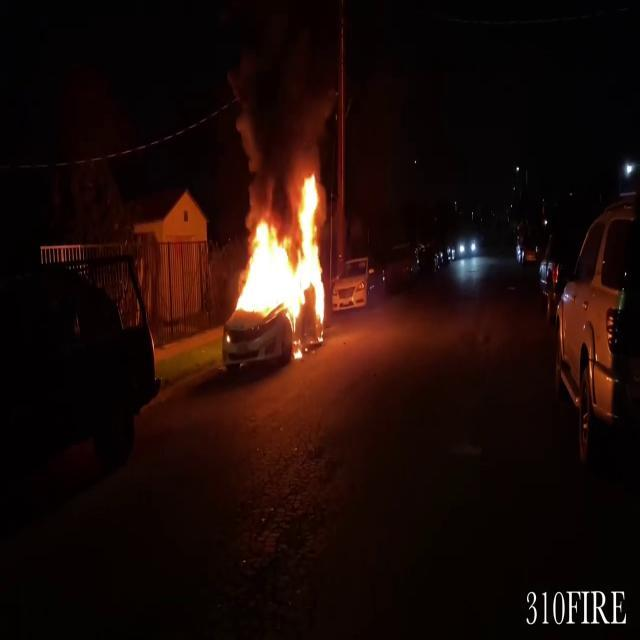Fire: (229, 163, 333, 344)
Smoke: (220, 1, 340, 179)
